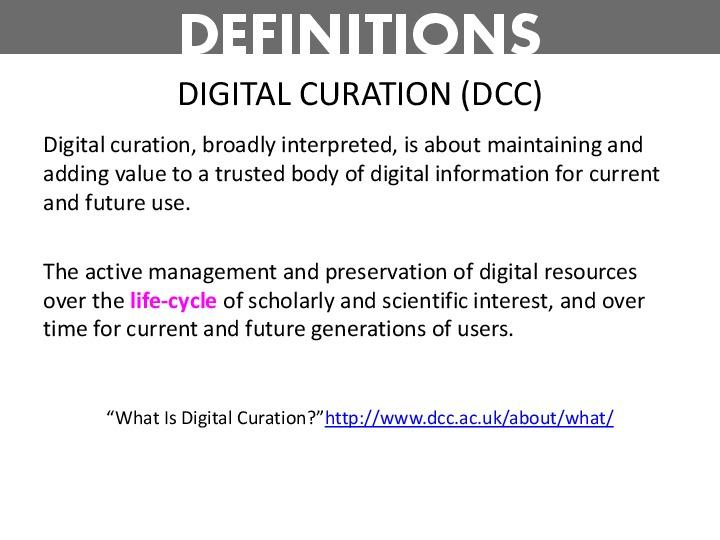paragraph: (25, 124, 686, 471)
title: (157, 4, 583, 115)
